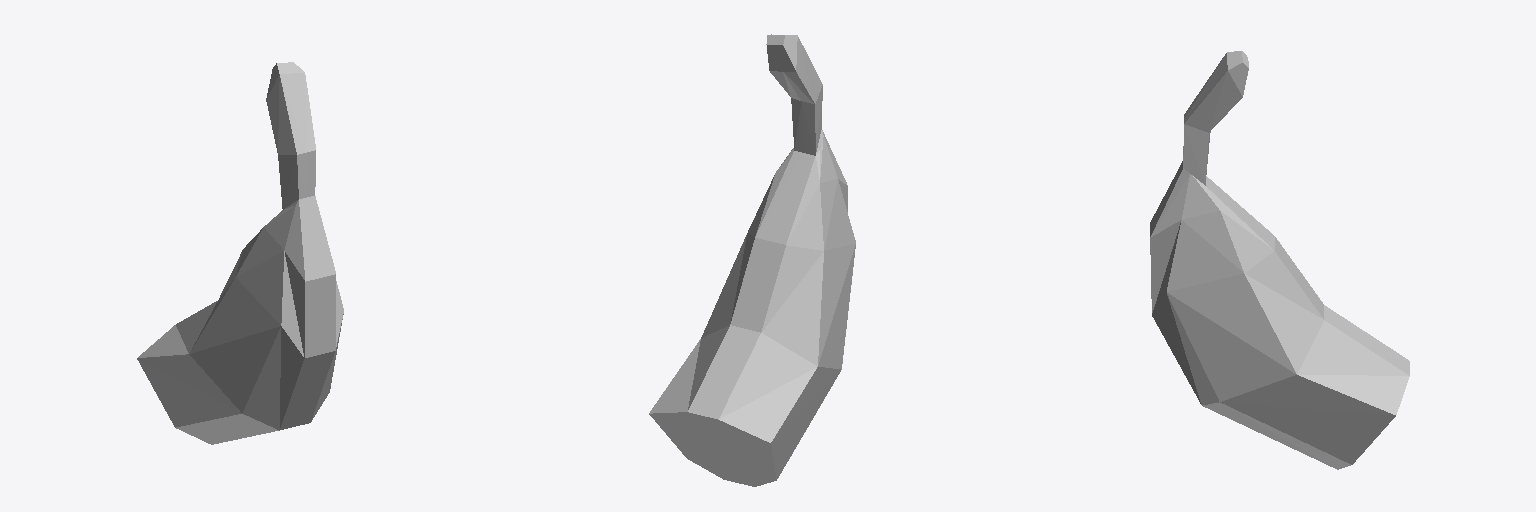
The model's file is Chili-C.obj.
The picture shows the model from 3 angles: view 1: azimuth 30°, elevation 25°; view 2: azimuth 150°, elevation 25°; view 3: azimuth 270°, elevation 25°; orthographic projection.
Visible parts, largest first — view 1: Cube.011; view 2: Cube.011; view 3: Cube.011.
Part boxes in pixels (x1,y1,x2,y2): Cube.011: (137, 62, 343, 444); Cube.011: (649, 34, 855, 486); Cube.011: (1150, 51, 1409, 469).
Bounding box in the file's own units: 0.1073 × 0.3467 × 0.1978.